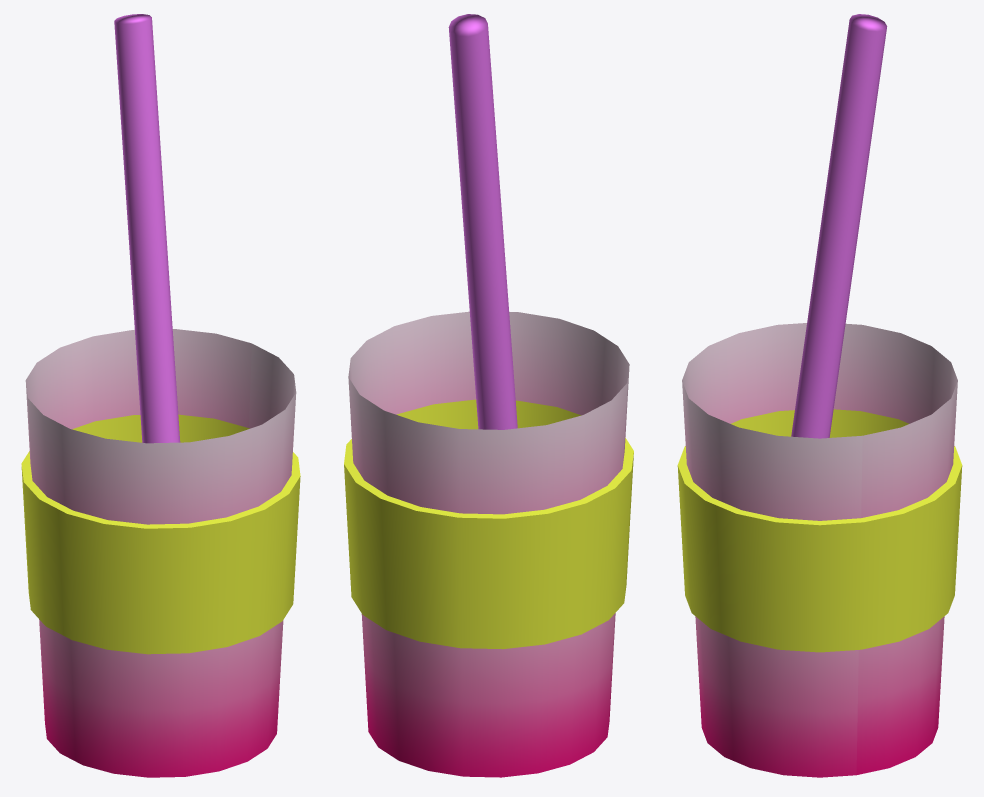
Rendered from cups4.fbx.
3 renders of one model, left to right at view 1: azimuth 30°, elevation 25°; view 2: azimuth 150°, elevation 25°; view 3: azimuth 270°, elevation 25°, orthographic. The views are drawn at different scales.
Parts seen in each view (by area): view 1: pCylinder8; view 2: pCylinder8; view 3: pCylinder8.
Boxes of the visible parts, box(x1,y1,x2,y2) form: pCylinder8: box(21, 14, 300, 777); pCylinder8: box(344, 14, 633, 777); pCylinder8: box(677, 14, 962, 777).
Bounding box in the file's own units: 0.000652 × 0.00172 × 0.000652.
Materials: 2 (2 with a texture image).
